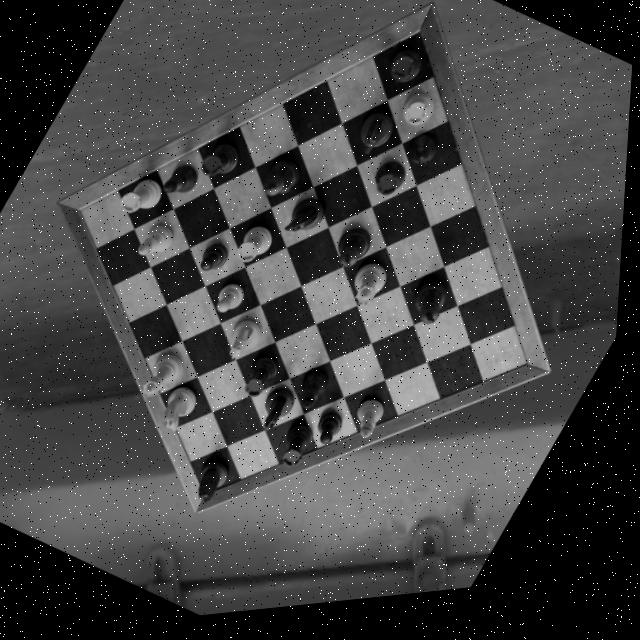chessboard: (82, 42, 531, 500)
